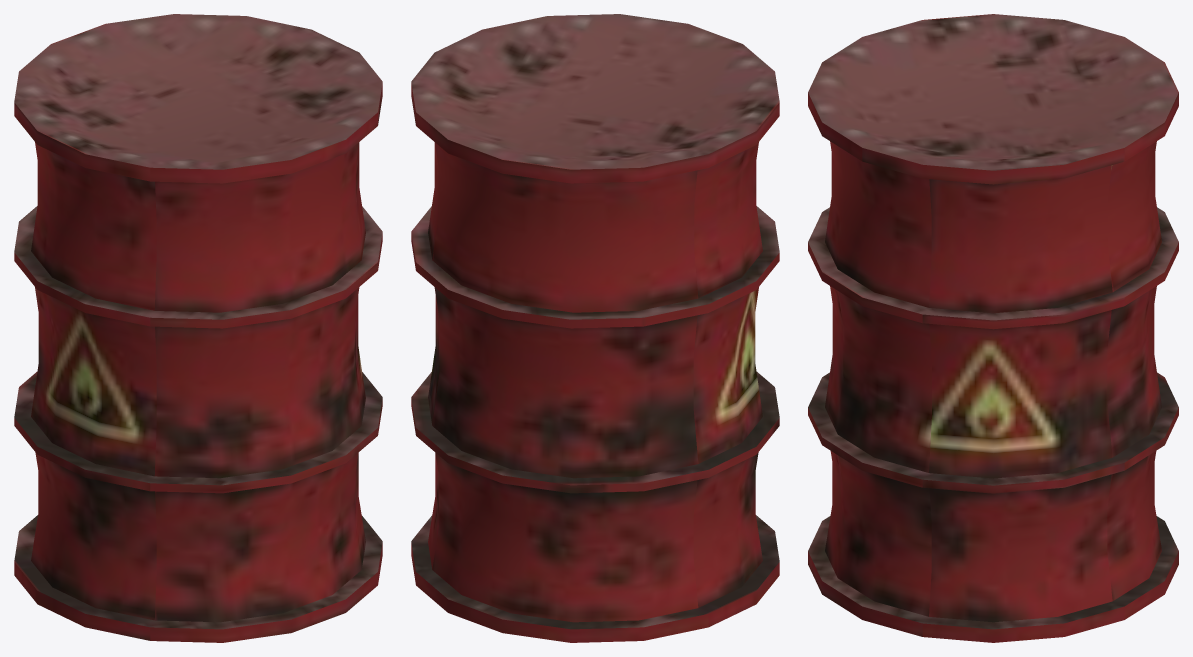
The model's file is barrel_red.glb.
3 views of the same model, side by side, from view 1: azimuth 30°, elevation 25°; view 2: azimuth 150°, elevation 25°; view 3: azimuth 270°, elevation 25° (orthographic).
Visible parts, largest first — view 1: barrel_red; view 2: barrel_red; view 3: barrel_red.
Boxes of the visible parts, x1,y1,x2,y2 form: barrel_red: [14, 14, 382, 642]; barrel_red: [411, 14, 779, 642]; barrel_red: [808, 14, 1178, 642].
Size of the model in its own units: 0.6763 by 0.95 by 0.6763.
Materials: 1 (1 with a texture image).
